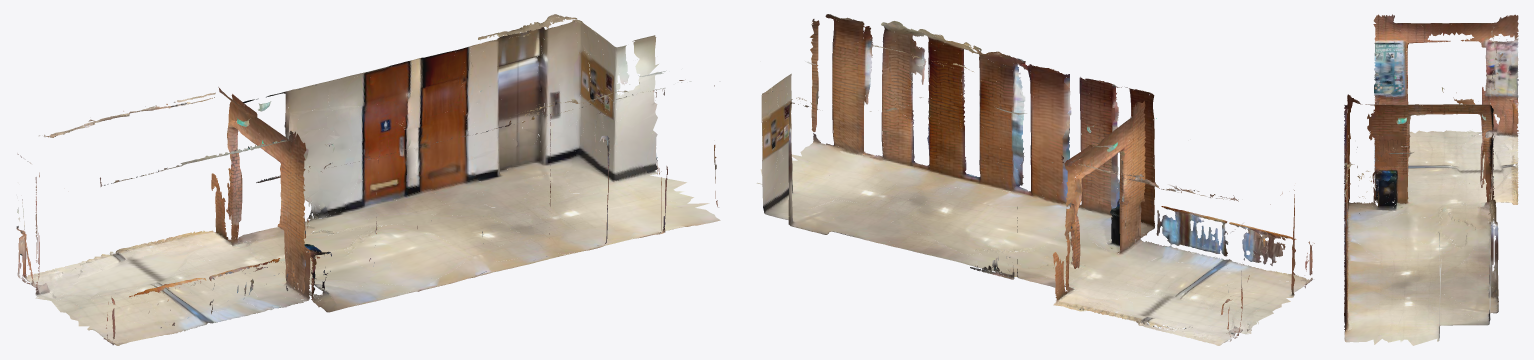
Rendered from mid2b.glb.
3 renders of one model, left to right at view 1: azimuth 30°, elevation 25°; view 2: azimuth 150°, elevation 25°; view 3: azimuth 270°, elevation 25°, orthographic. The views are drawn at different scales.
Visible parts, largest first — view 1: mid2b_F2; view 2: mid2b_F2; view 3: mid2b_F2.
Part boxes in pixels (<box>): mid2b_F2: <box>16,14,720,345</box>; mid2b_F2: <box>756,14,1314,345</box>; mid2b_F2: <box>1344,14,1518,345</box>.
Size of the model in its own units: 12.81 by 3.39 by 4.43.
1 material, 1 textured.
